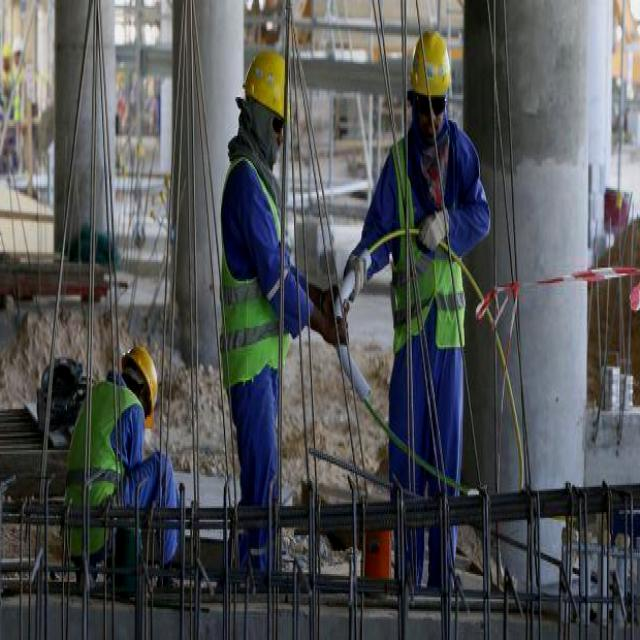face_nomask: (416, 97, 445, 147)
hand_glove: (310, 301, 350, 351), (416, 208, 454, 254), (344, 240, 370, 306), (306, 274, 338, 316)
head_helmet: (239, 50, 293, 116), (122, 345, 162, 429), (409, 33, 450, 95)
person: (389, 33, 474, 568), (222, 58, 297, 543), (63, 328, 160, 564)
vest: (400, 135, 464, 340), (219, 159, 278, 380), (65, 382, 131, 551)
